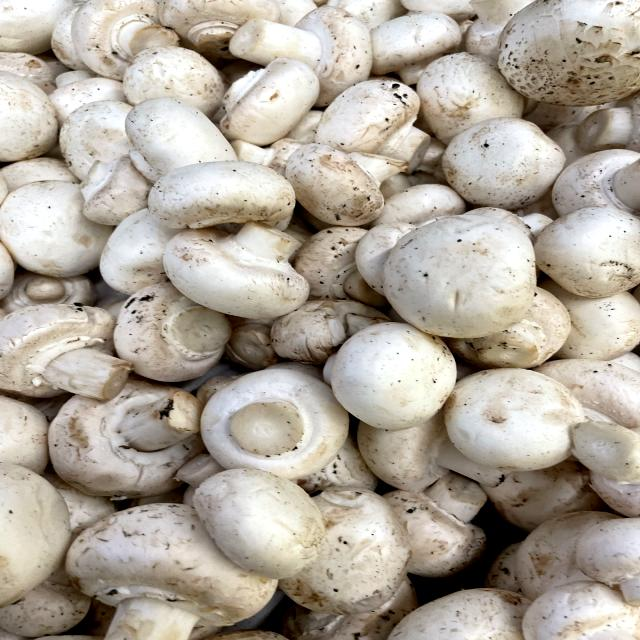mushroom: (40, 491, 287, 640), (37, 363, 220, 507), (375, 210, 544, 342), (196, 364, 367, 484), (152, 214, 323, 327), (0, 300, 147, 409), (316, 68, 447, 181), (205, 53, 319, 148)
